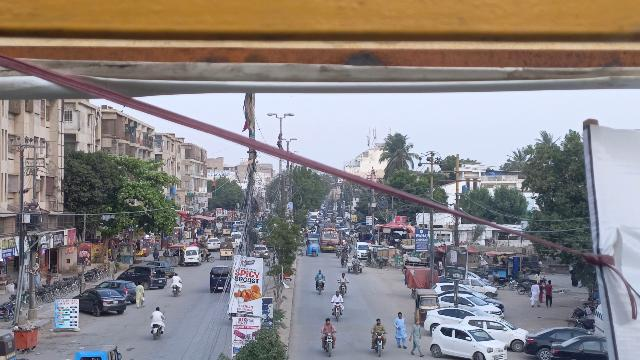Bike: (372, 331, 388, 358), (321, 330, 336, 358), (329, 301, 345, 321), (169, 272, 182, 296), (149, 324, 163, 342), (314, 279, 326, 298), (337, 282, 351, 298)
Bus: (319, 226, 340, 253)
Car: (429, 323, 508, 360), (461, 314, 525, 349), (525, 326, 588, 360), (72, 287, 128, 317), (548, 333, 606, 360), (441, 293, 503, 316), (424, 308, 473, 333), (119, 265, 167, 289), (96, 279, 136, 304), (252, 243, 269, 260)
Cart: (346, 254, 364, 274)
Person: (408, 319, 425, 358), (394, 310, 409, 350), (527, 281, 541, 307), (543, 280, 556, 308), (150, 305, 166, 326), (134, 280, 145, 310), (320, 317, 338, 335), (373, 317, 387, 338), (314, 268, 327, 282), (330, 290, 344, 303), (336, 271, 350, 283)
Rickshaw: (414, 288, 439, 327), (73, 343, 121, 360), (305, 236, 320, 257), (218, 241, 234, 258)
Van: (207, 265, 233, 293), (183, 246, 200, 267)
